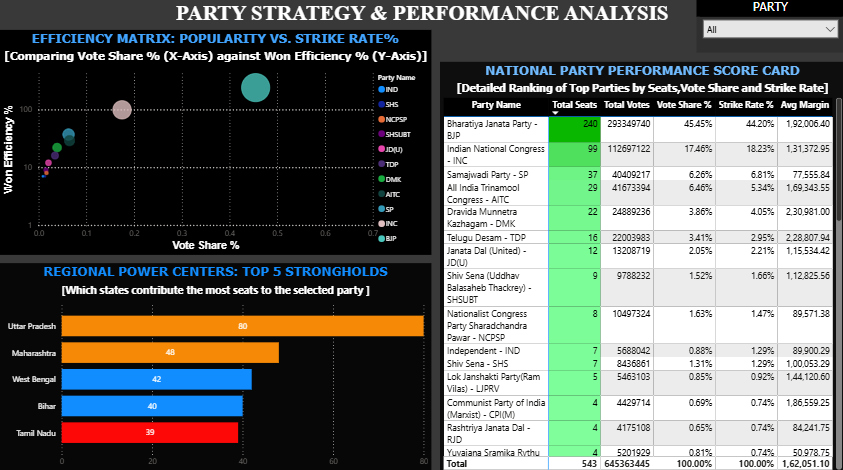

This screenshot's page, from the dashboard's own definition file:
{"tool":"powerbi","page":{"name":"Performance Analysis","canvas":[1280,720],"ordinal":3},"visuals":[{"type":"shape","box":[0,0,1279.9,96.7],"z":0},{"type":"textbox","box":[0,0,1279.9,65],"z":1000},{"type":"scatterChart","title":"EFFICIENCY MATRIX: POPULARITY VS. STRIKE RATE%","fields":{"X":["All Measures.Vote Share %"],"Series":["PartyWiseResults.PartyShortName"],"Size":["Sum(PartyWiseResults.Won)"],"Y":["Sum(PartyWiseResults.Won)"]},"box":[0,49.2,653.4,341],"z":2000},{"type":"clusteredBarChart","title":"REGIONAL POWER CENTERS:  TOP 5 STRONGHOLDS","fields":{"Category":["States.State"],"Y":["All Measures.Total Seats"]},"box":[0,401.2,653.4,318.8],"z":3000},{"type":"slicer","title":"PARTY","fields":{"Values":["PartyWiseResults.Party"]},"box":[1054.6,0,225.2,82.5],"z":4000},{"type":"pivotTable","title":"NATIONAL PARTY PERFORMANCE SCORE CARD","fields":{"Rows":["PartyWiseResults.Party"],"Values":["All Measures.Total Seats","All Measures.Total Votes","All Measures.Vote Share %","All Measures.Strike Rate %","All Measures.Avg Margin"]},"box":[666.1,96.7,613.8,623.3],"z":5000}]}

Visuals, with their boxes in screenshot pixels (x1, y1, x2, y2), scaled from the page's 1280x720 canvas onto the 843x470 screenshot:
shape: <bbox>0, 0, 842, 63</bbox>
textbox: <bbox>0, 0, 842, 42</bbox>
"EFFICIENCY MATRIX: POPULARITY VS. STRIKE RATE%" scatterChart: <bbox>0, 32, 430, 255</bbox>
"REGIONAL POWER CENTERS:  TOP 5 STRONGHOLDS" clusteredBarChart: <bbox>0, 262, 430, 469</bbox>
"PARTY" slicer: <bbox>695, 0, 842, 54</bbox>
"NATIONAL PARTY PERFORMANCE SCORE CARD" pivotTable: <bbox>439, 63, 842, 469</bbox>
